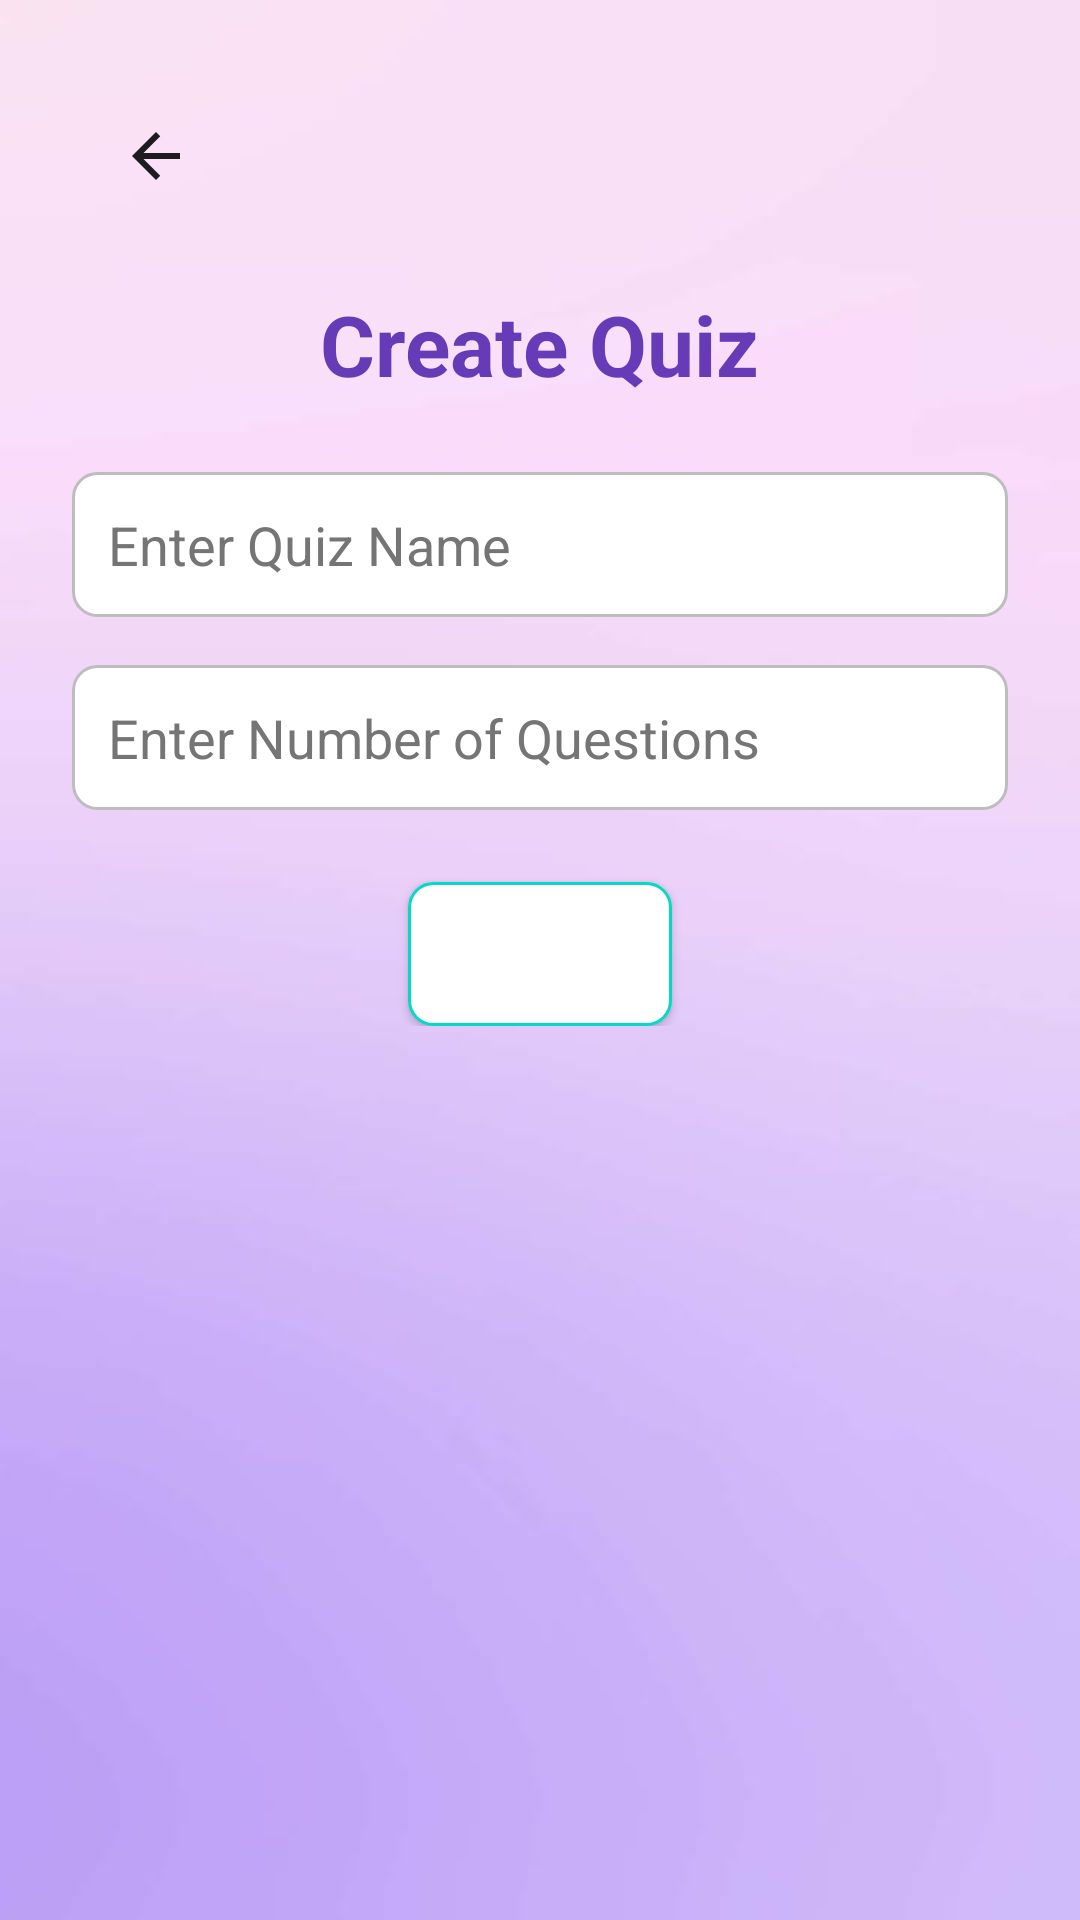

Where to tap for icons on this 1080px x 1920px app screen, as [x,y]:
Back: [156,156]
